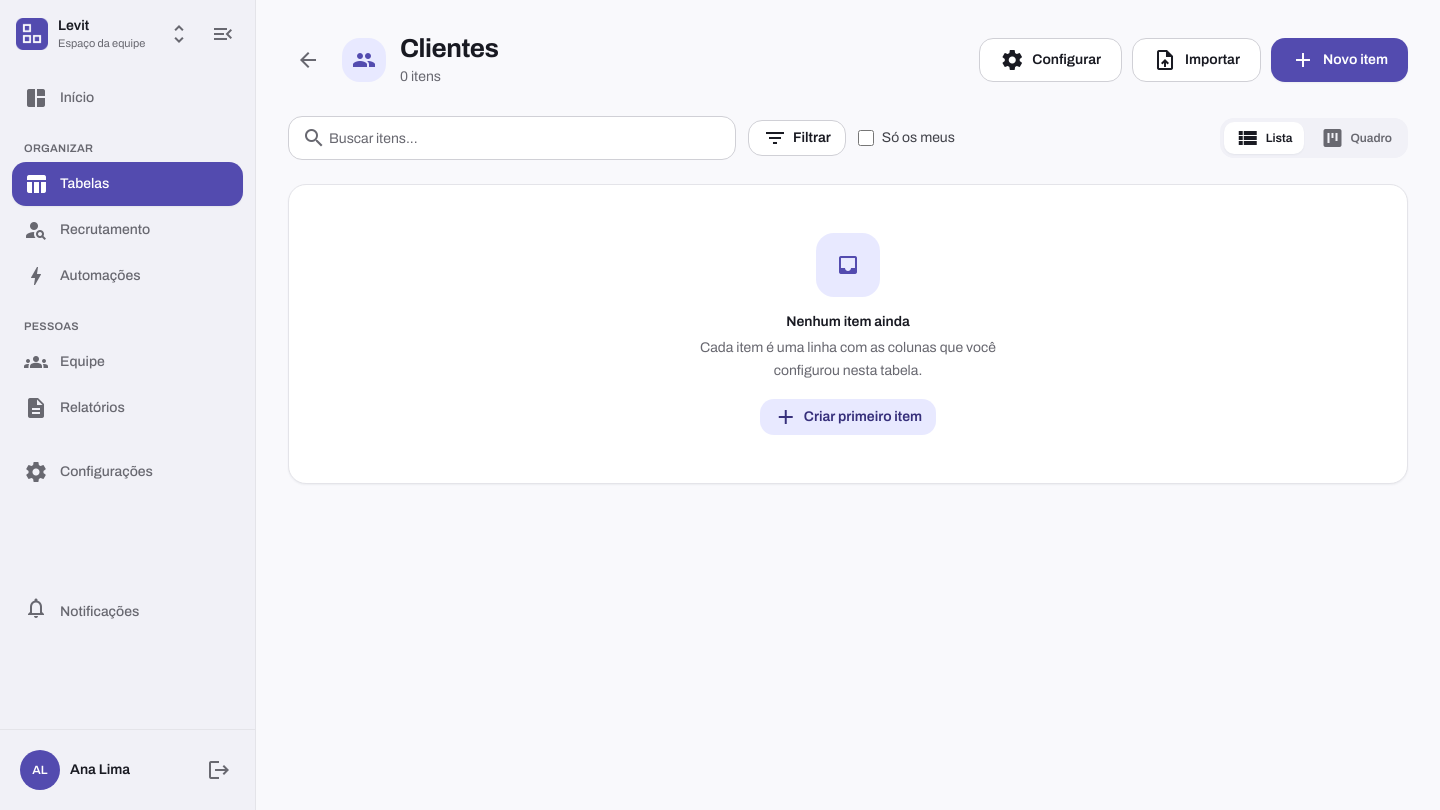
Test case: ModuleRecords › tabela vazia convida a criar o primeiro item
Check: the text "Nenhum item ainda" is shown, box [786,311,910,333]
Check: the text "0 itens" is shown, box [400,69,441,84]
Click the button "Criar primeiro item".
click(848, 416)  # box [760,398,936,434]
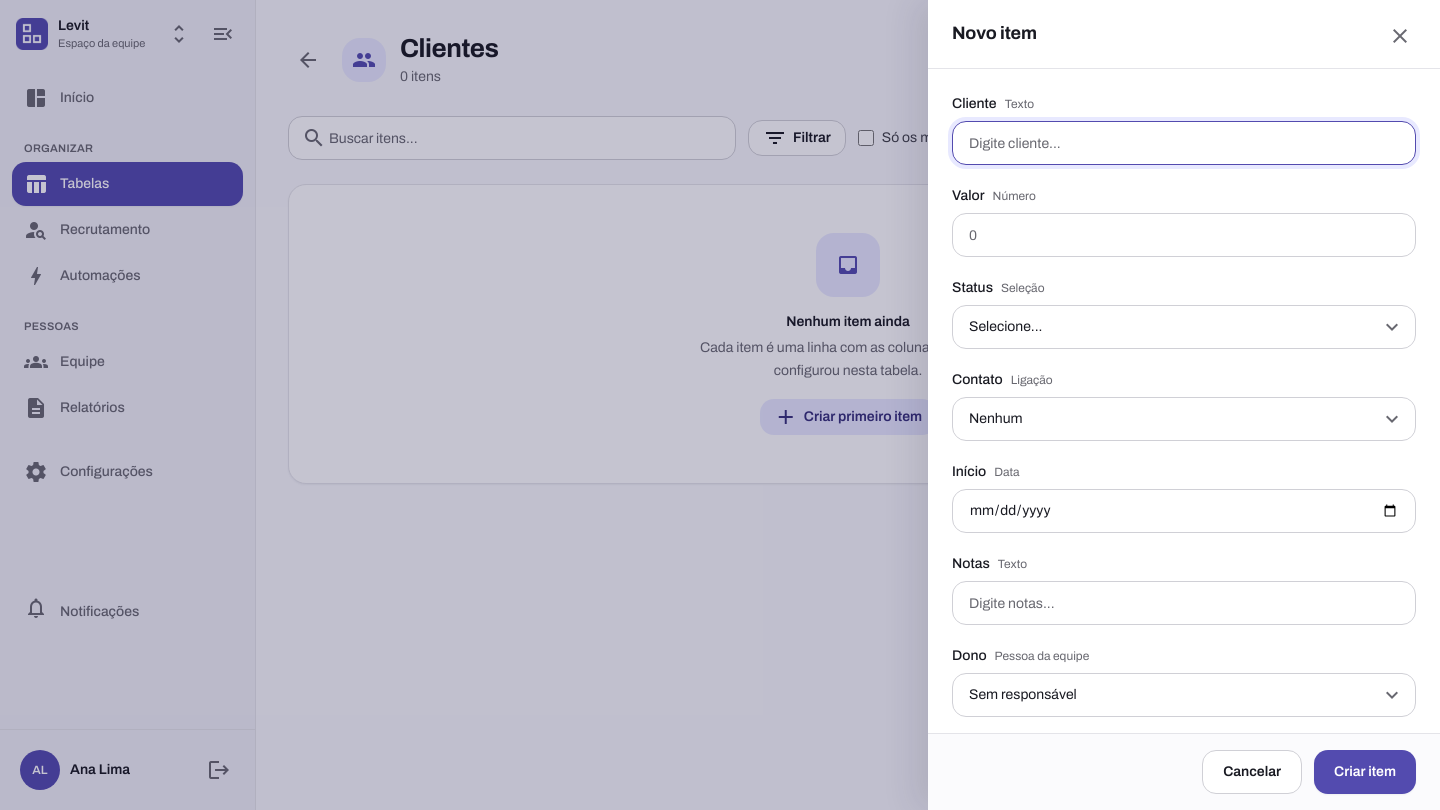
Check: the dialog "Novo item" is shown, box [928,0,1439,809]
